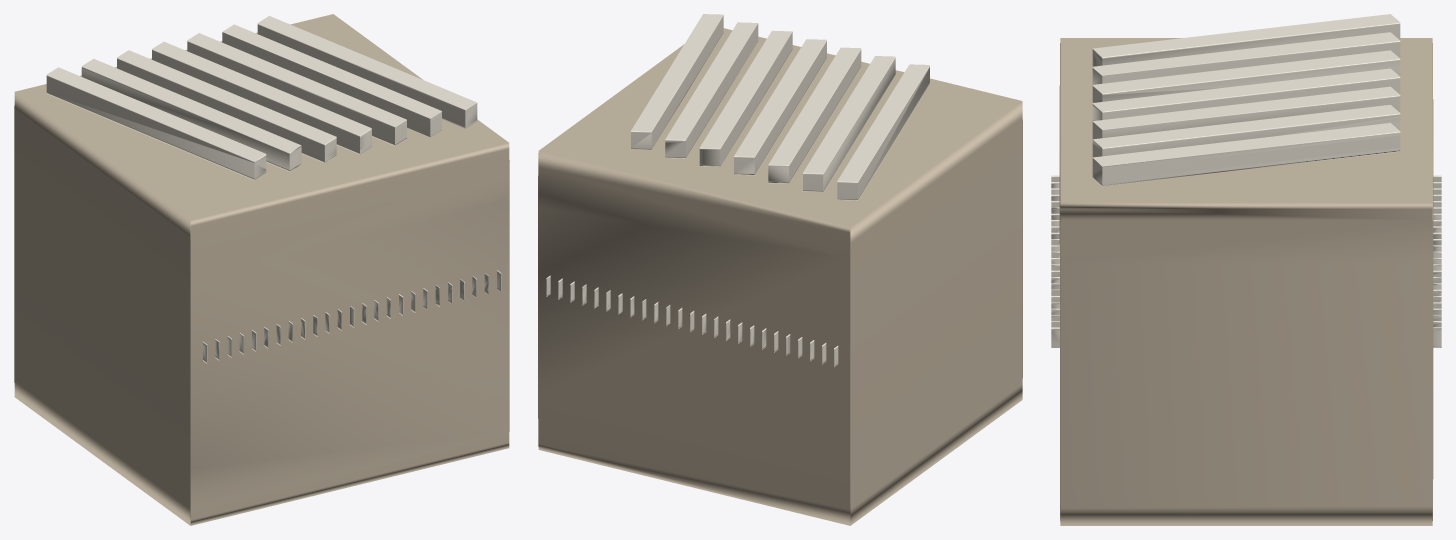
File: rug-15-4.lod.glb
3 renders of one model, left to right at view 1: azimuth 30°, elevation 25°; view 2: azimuth 150°, elevation 25°; view 3: azimuth 270°, elevation 25°, orthographic. The views are drawn at different scales.
Visible parts, largest first — view 1: woven-rug, upholstery; view 2: woven-rug, upholstery; view 3: woven-rug, upholstery.
Part boxes in pixels (<box>): woven-rug: <box>14,14,509,525</box>; upholstery: <box>46,16,501,363</box>; woven-rug: <box>538,28,1022,525</box>; upholstery: <box>546,14,929,366</box>; woven-rug: <box>1059,38,1433,525</box>; upholstery: <box>1051,14,1441,347</box>.
Bounding box in the file's own units: 1 × 1 × 1.
